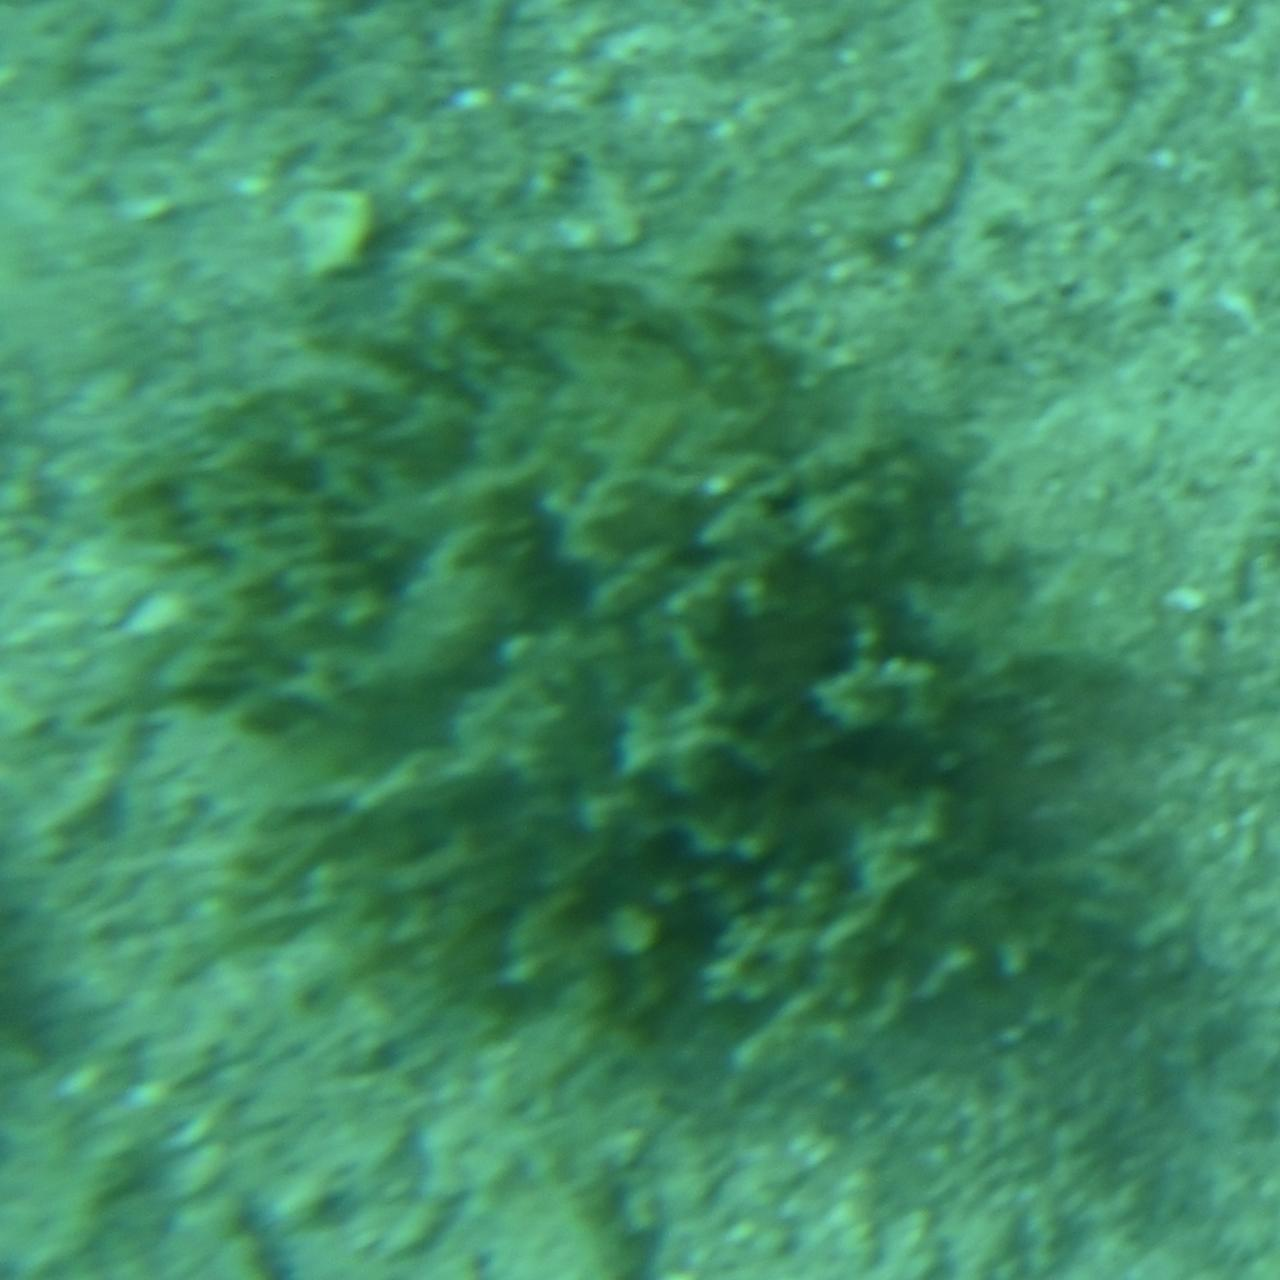Phaeophyceae -cfr Cystoseira-: (59, 202, 1221, 1078)
